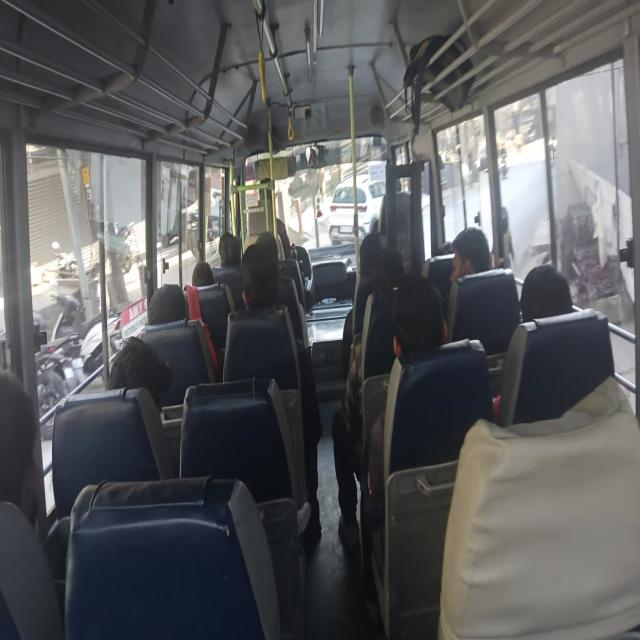person: (0, 383, 45, 560), (397, 280, 460, 376), (95, 344, 168, 420), (518, 278, 588, 352), (447, 236, 493, 305), (242, 250, 278, 318), (143, 279, 187, 334), (378, 254, 424, 300), (220, 228, 256, 264), (360, 232, 392, 272), (186, 250, 216, 292), (259, 229, 284, 265)
